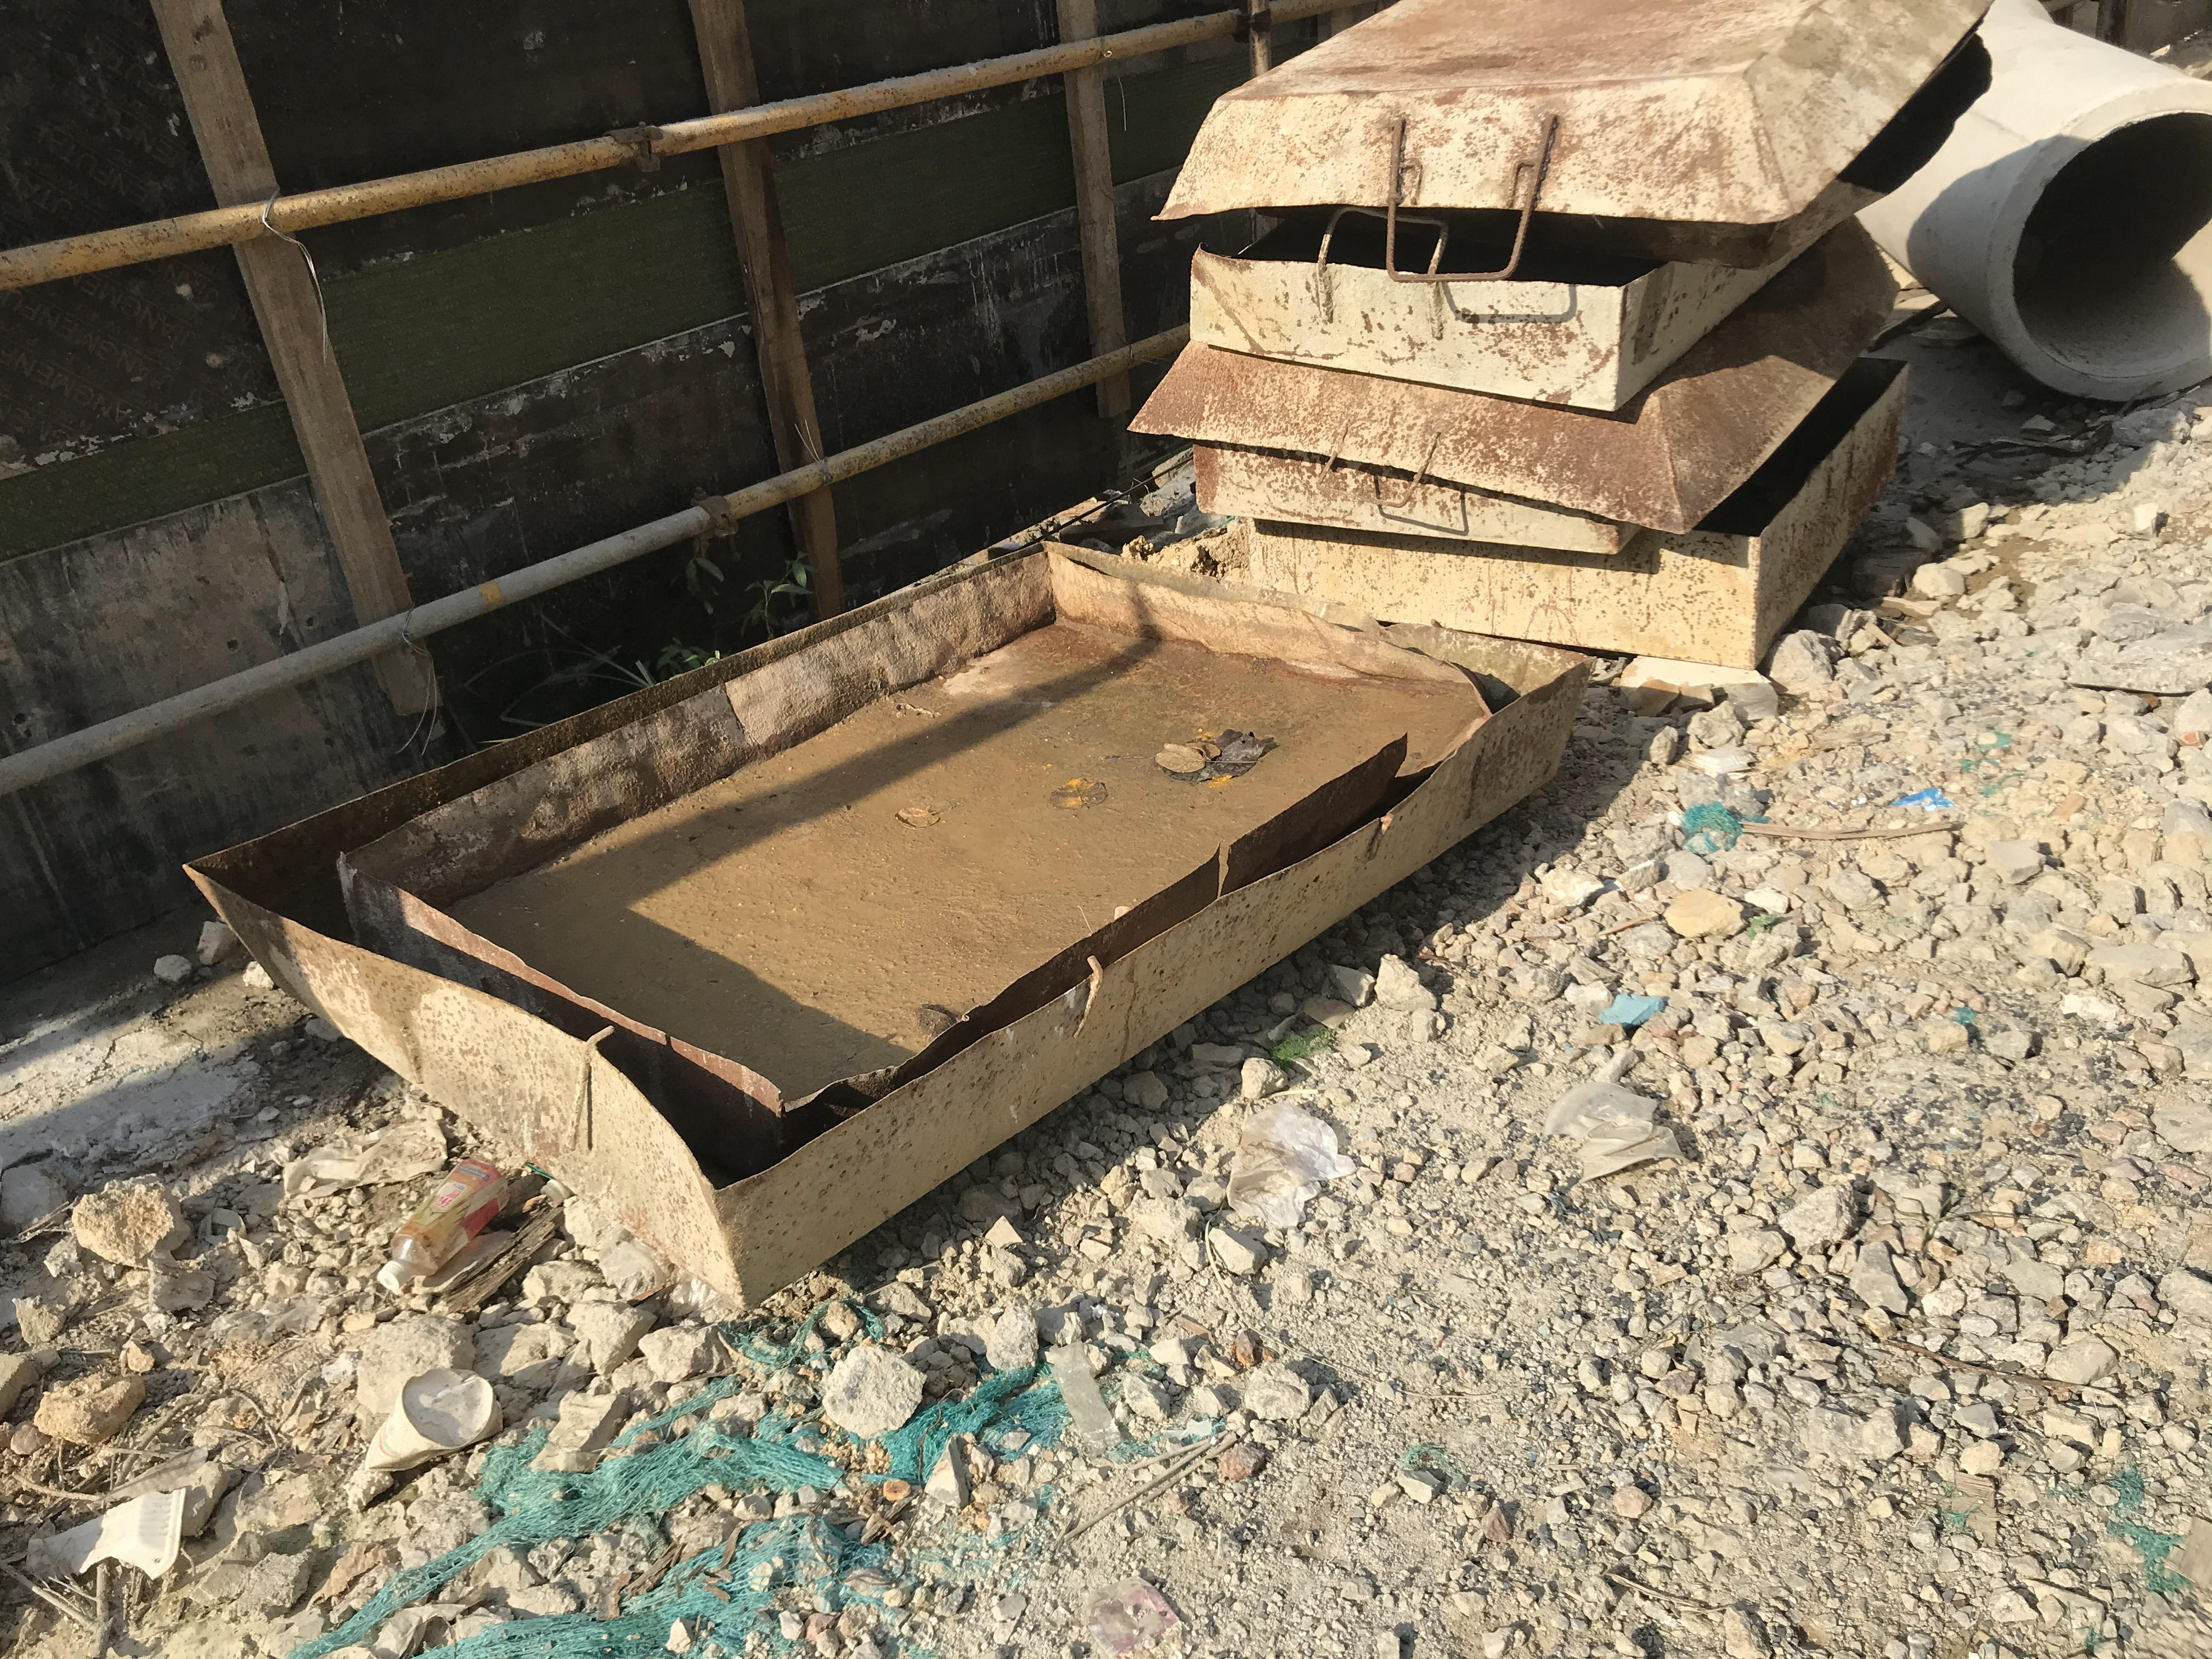hopper: (185, 519, 1616, 1340), (1113, 0, 1986, 667)
